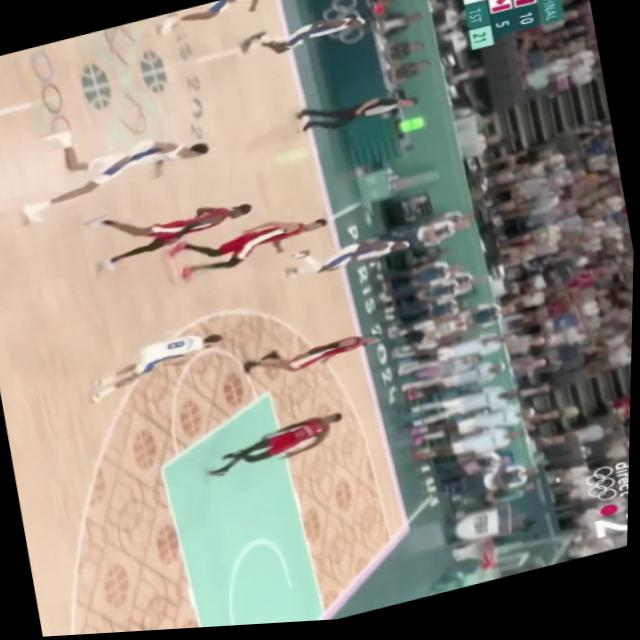ball_handler: (86, 326, 231, 403)
